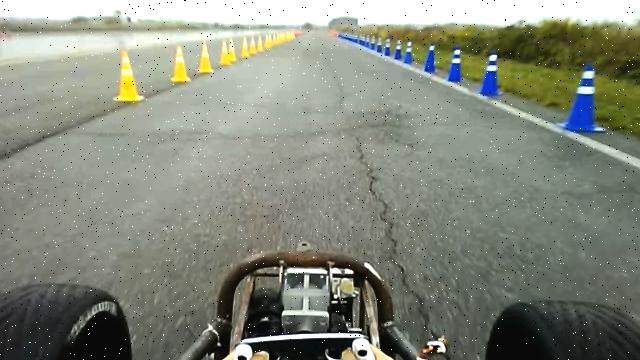blue cone: (558, 61, 607, 134), (479, 50, 504, 96), (448, 45, 462, 82), (424, 42, 437, 73), (404, 41, 414, 64)
yellow cone: (113, 49, 145, 103), (171, 44, 191, 82), (197, 40, 214, 74), (219, 41, 231, 65), (240, 37, 250, 58)
